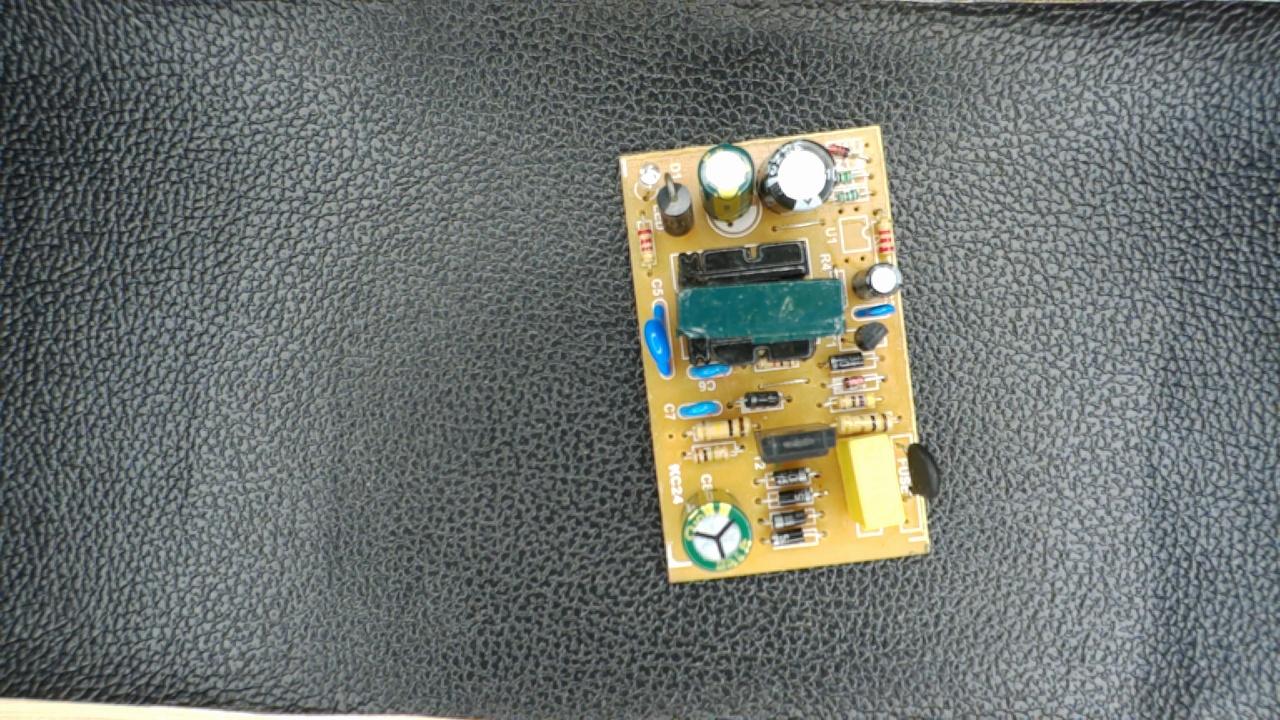fuse: (888, 432, 942, 521)
hv_capacitor: (677, 488, 758, 575)
mov: (639, 296, 680, 381)
